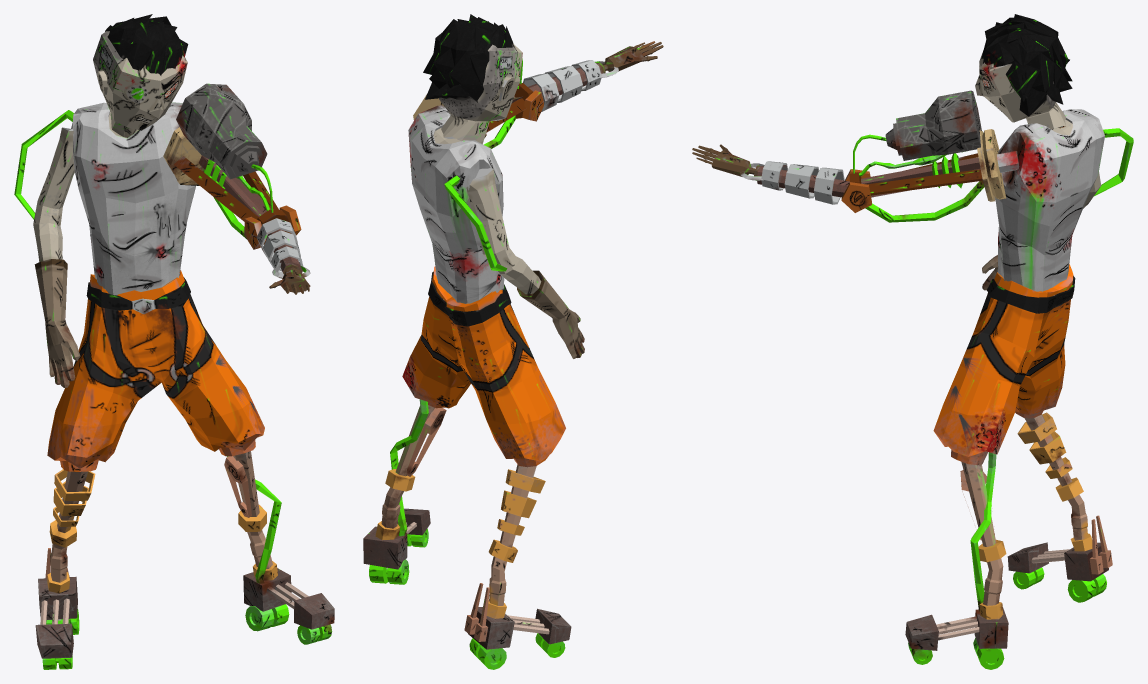
File: CyborgFINALAnimation_000132.obj
3 renders of one model, left to right at view 1: azimuth 30°, elevation 25°; view 2: azimuth 150°, elevation 25°; view 3: azimuth 270°, elevation 25°, orthographic. The views are drawn at different scales.
Parts seen in each view (by area): view 1: CyborgMesh_Cube.002; view 2: CyborgMesh_Cube.002; view 3: CyborgMesh_Cube.002.
Part boxes in pixels (x1=…): CyborgMesh_Cube.002: x1=14, y1=14, x2=334, y2=669; CyborgMesh_Cube.002: x1=363, y1=14, x2=663, y2=669; CyborgMesh_Cube.002: x1=692, y1=14, x2=1133, y2=669.
Bounding box in the file's own units: 3.72 × 9.56 × 6.34.
